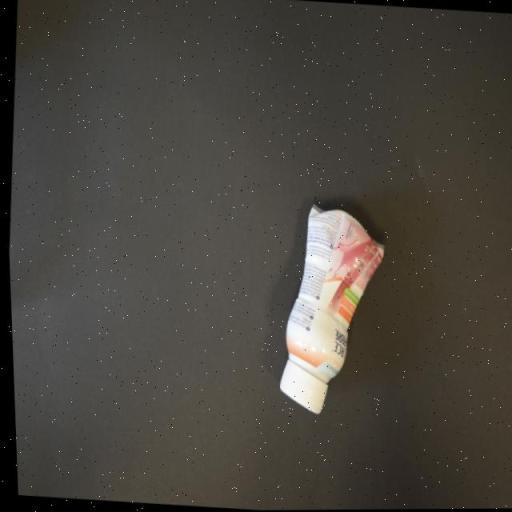plastic: (271, 201, 390, 419)
